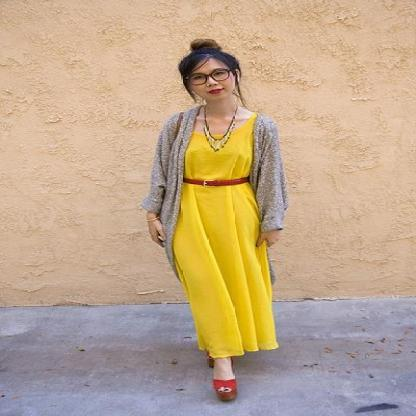dress: (173, 127, 276, 364)
jacket: (148, 112, 295, 240)
shoe: (206, 356, 236, 403)
